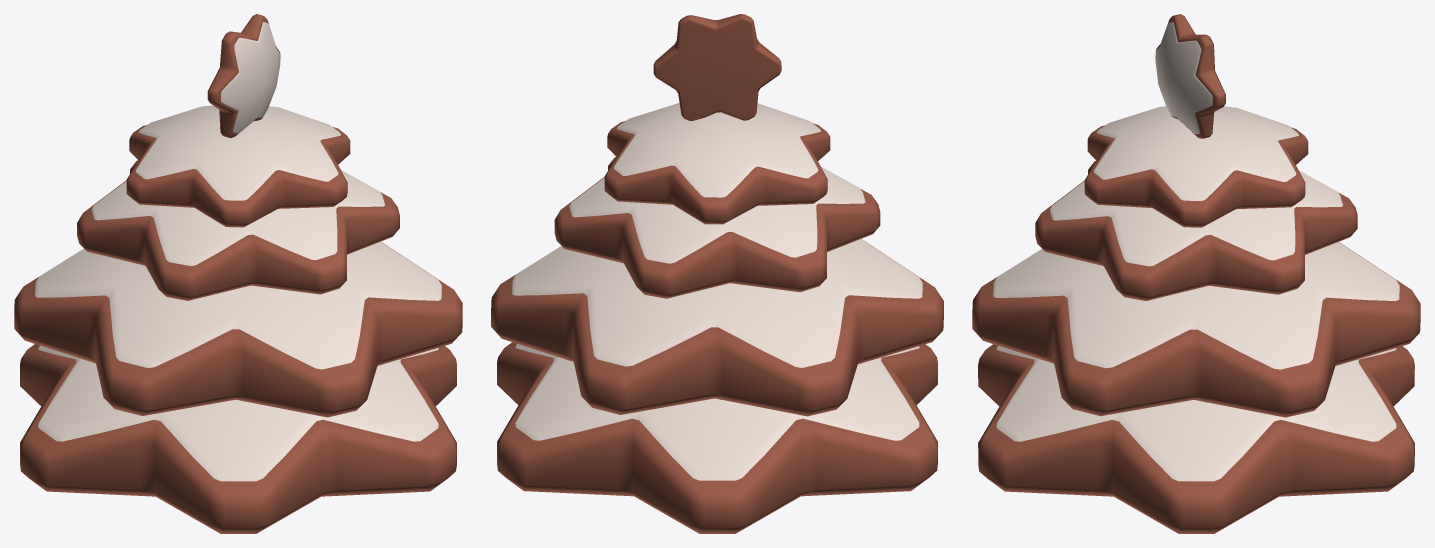
Rendered from Gingerbread_christmas_tree_231109.glb.
3 renders of one model, left to right at view 1: azimuth 30°, elevation 25°; view 2: azimuth 150°, elevation 25°; view 3: azimuth 270°, elevation 25°, orthographic.
Visible parts, largest first — view 1: Gingerbread_christmas_tree; view 2: Gingerbread_christmas_tree; view 3: Gingerbread_christmas_tree.
Boxes of the visible parts, bbox=[...] form: Gingerbread_christmas_tree: bbox=[14, 14, 462, 533]; Gingerbread_christmas_tree: bbox=[491, 14, 943, 533]; Gingerbread_christmas_tree: bbox=[972, 14, 1420, 533].
Bounding box in the file's own units: 2.49 × 2.34 × 2.3.
1 material, 1 textured.
